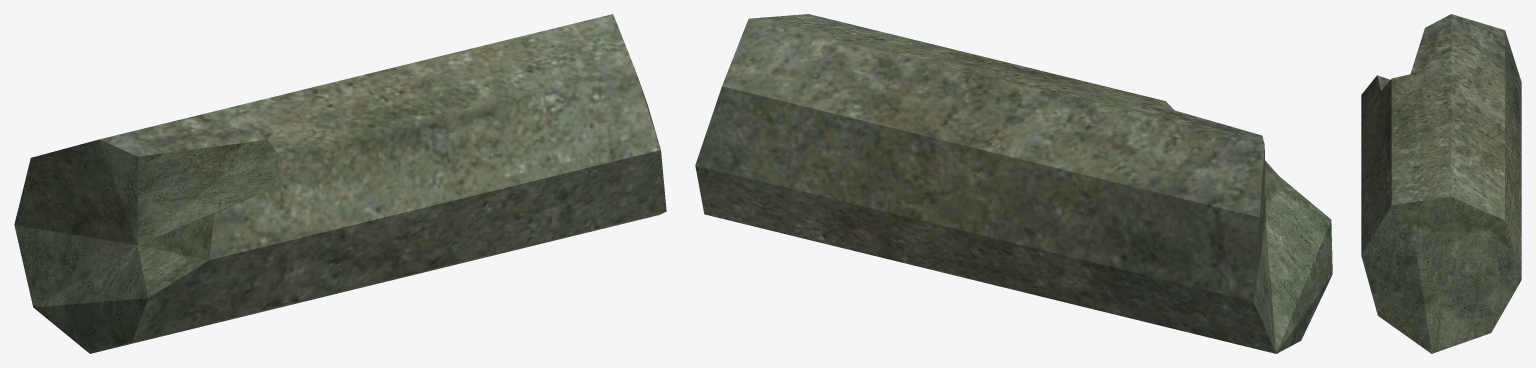
The model's file is thm_dant_jedi_temple_pillar_fallen_l0.fbx.
3 renders of one model, left to right at view 1: azimuth 30°, elevation 25°; view 2: azimuth 150°, elevation 25°; view 3: azimuth 270°, elevation 25°, orthographic. The views are drawn at different scales.
Visible parts, largest first — view 1: mesh_node; view 2: mesh_node; view 3: mesh_node.
Part boxes in pixels (x1,y1,x2,y2): mesh_node: (14,14,666,353); mesh_node: (695,14,1332,353); mesh_node: (1361,14,1521,353).
Size of the model in its own units: 2.83 by 0.919 by 0.9189.
2 materials, 2 textured.
